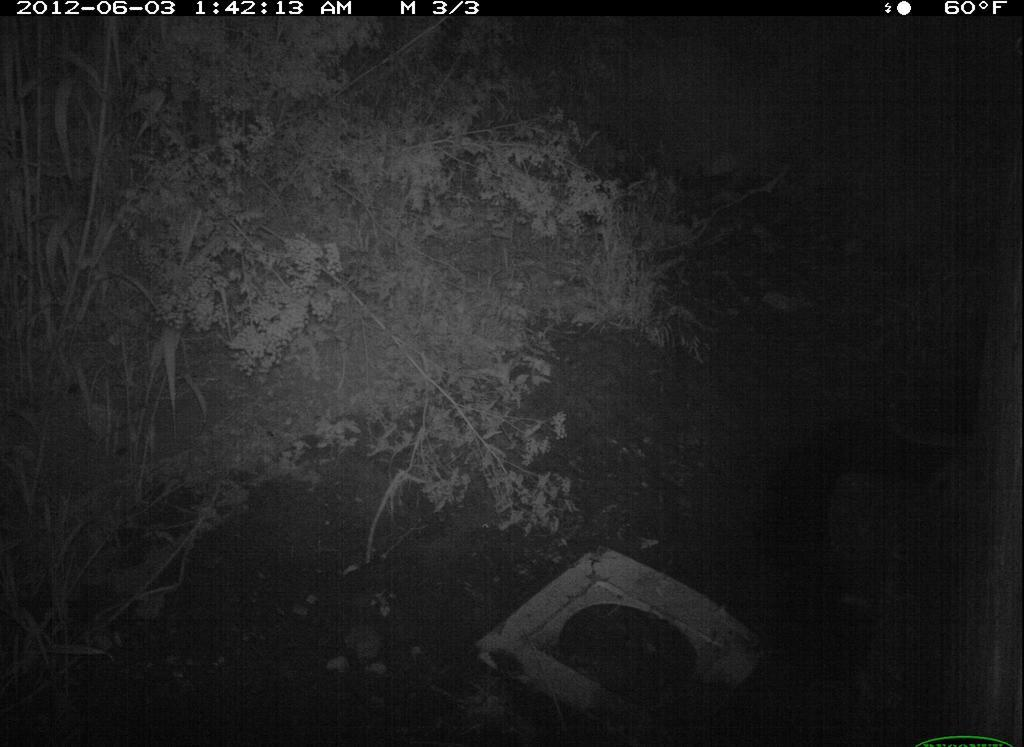cat: (880, 404, 995, 512)
